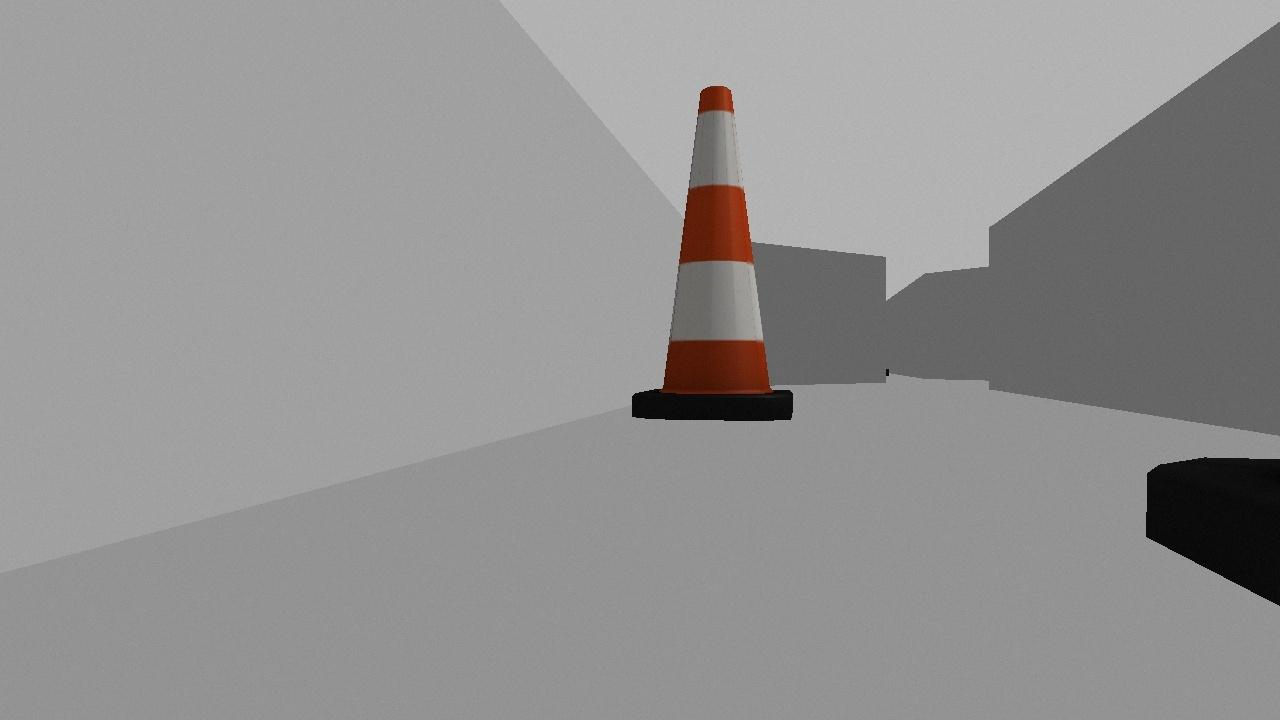cone_barrel: (620, 77, 807, 434)
